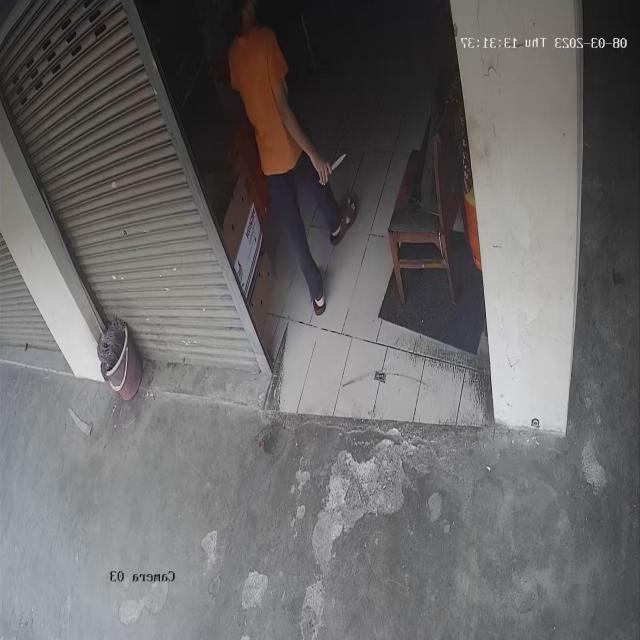Knife: (318, 130, 354, 185)
